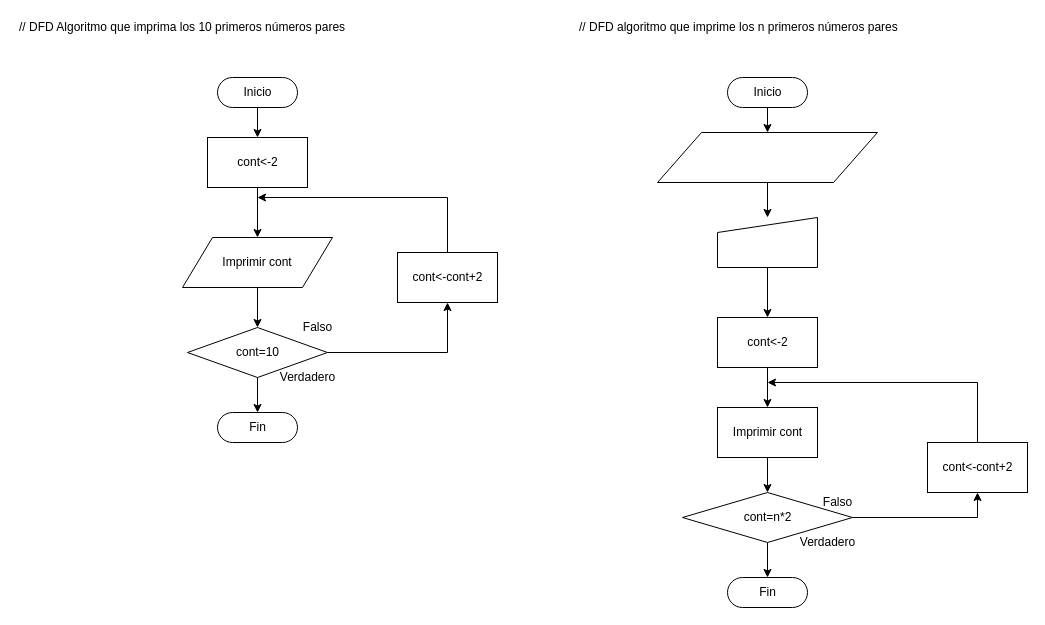
Some shapes in this 1045 by 625 pixel diagram are drawn without their labels. The centre of each missing label's shape, as x and y in pixels:
Imprimir "Introduzca un valor": point (767, 157)
Leer n: point (767, 242)
